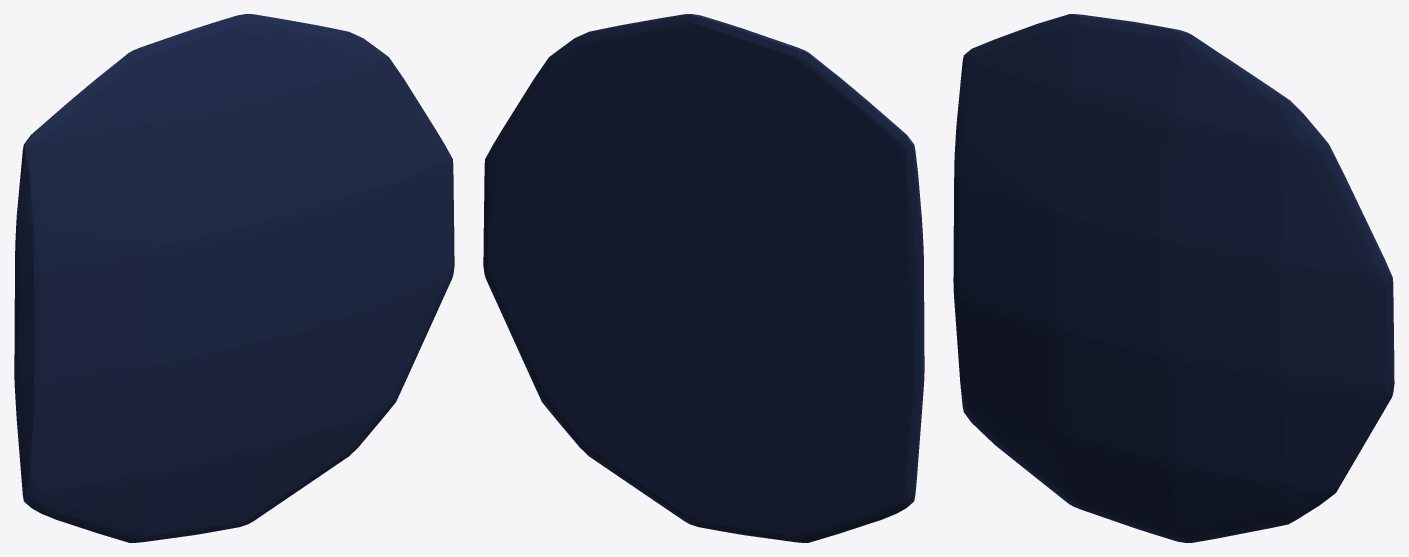
The model's file is left_elbow_link_part_21.obj.
3 renders of one model, left to right at view 1: azimuth 30°, elevation 25°; view 2: azimuth 150°, elevation 25°; view 3: azimuth 330°, elevation 25°, orthographic.
Bounding box in the file's own units: 0.0171 × 0.019 × 0.0016.
